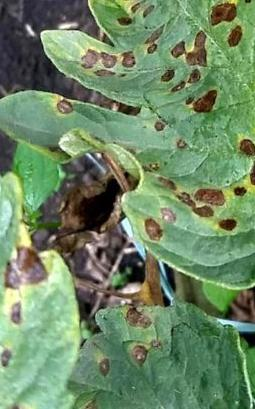Tomato Early blight leaf: (0, 0, 255, 281), (48, 296, 255, 409)
